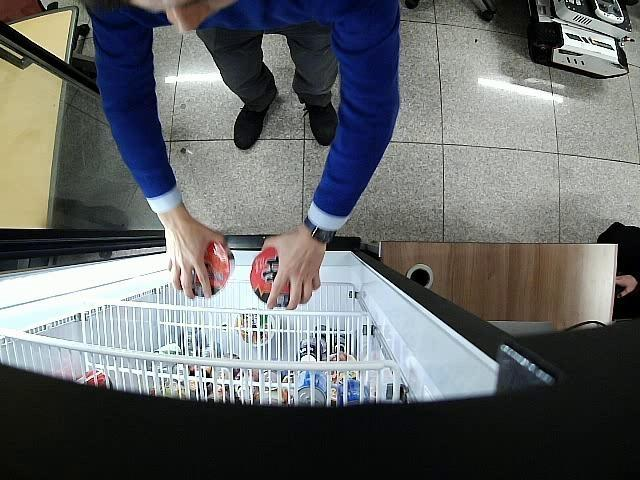01_ShinRamen_L: (180, 238, 235, 296), (250, 246, 292, 306)
